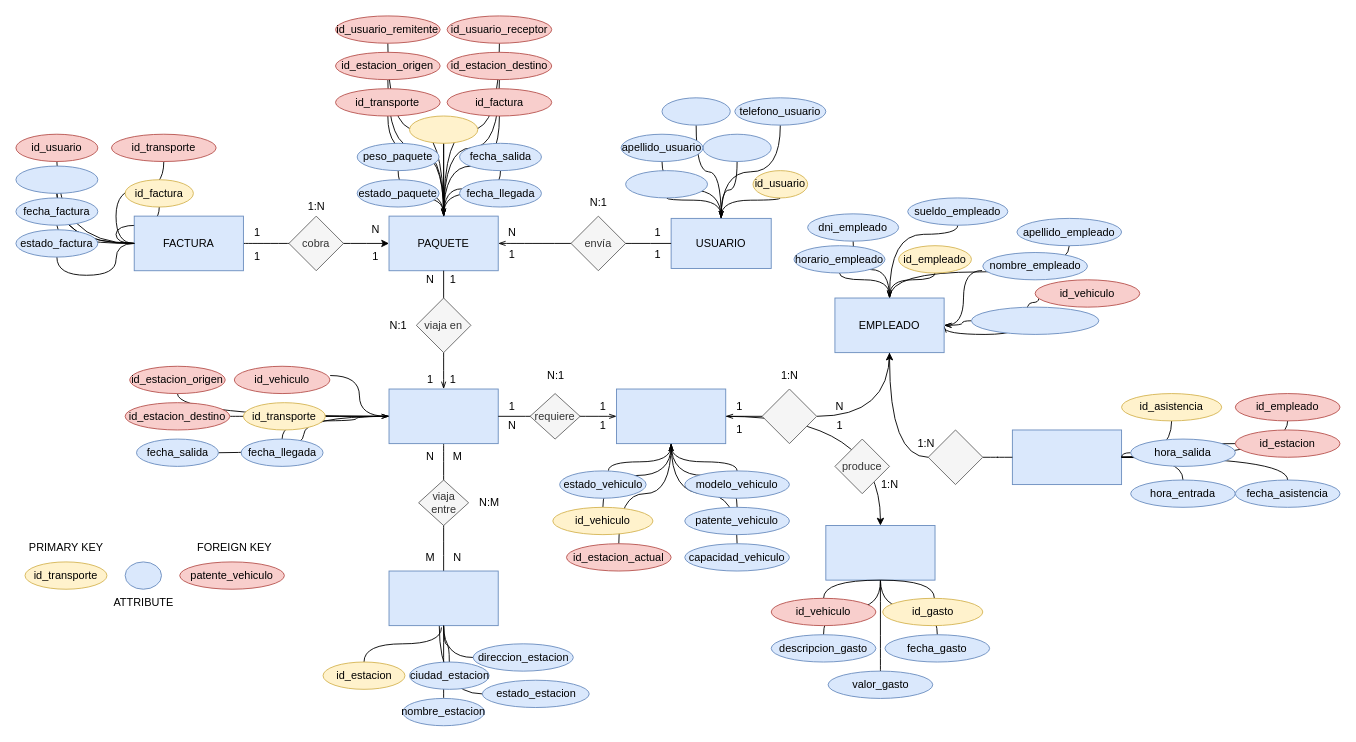
Some shapes in this 1356 by 742 pixel diagram are drawn without their labels. Here are the shapes that lost their labels. From the top down, the centre of each, then its label:
the point at 443,129: id_paquete
the point at 695,111: email_usuario
the point at 736,147: dni_usuario
the point at 56,179: total_factura
the point at 666,184: nombre_usuario
the point at 1035,320: empleado_conductor
the point at 443,416: TRANSPORTE
the point at 671,416: VEHICULO
the point at 789,416: conduce
the point at 955,457: verifica
the point at 1066,457: ASISTENCIA
the point at 880,552: VEHICULO_GASTO
the point at 143,575: origen
the point at 443,598: ESTACION
